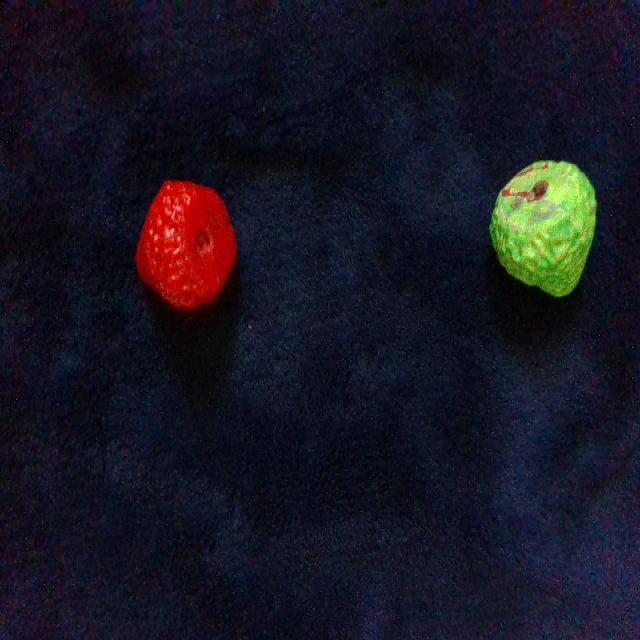chica_roja: (136, 181, 236, 309)
verde: (490, 160, 596, 296)
